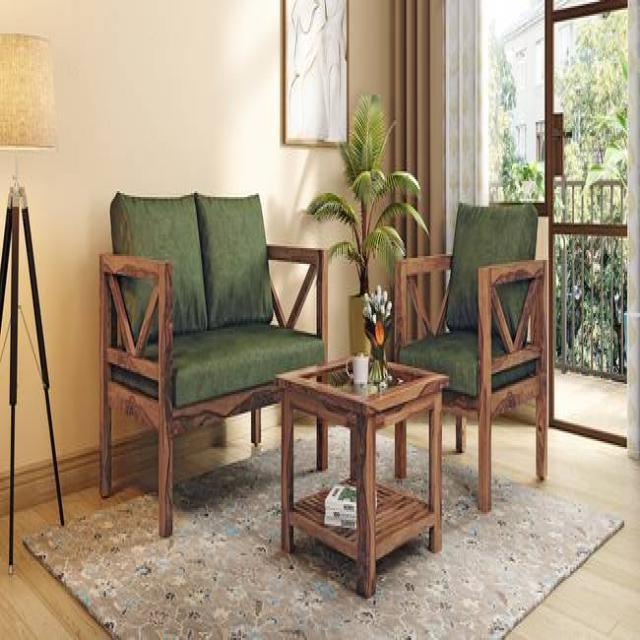sofa: (97, 189, 328, 538), (387, 195, 558, 508)
